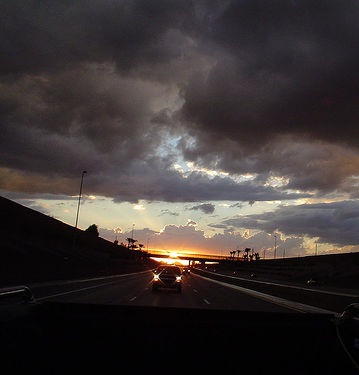car: (147, 263, 186, 299)
